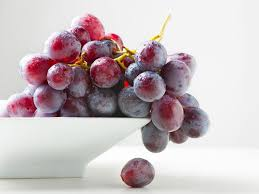Red Grapes: (8, 15, 212, 146), (117, 153, 163, 189)
